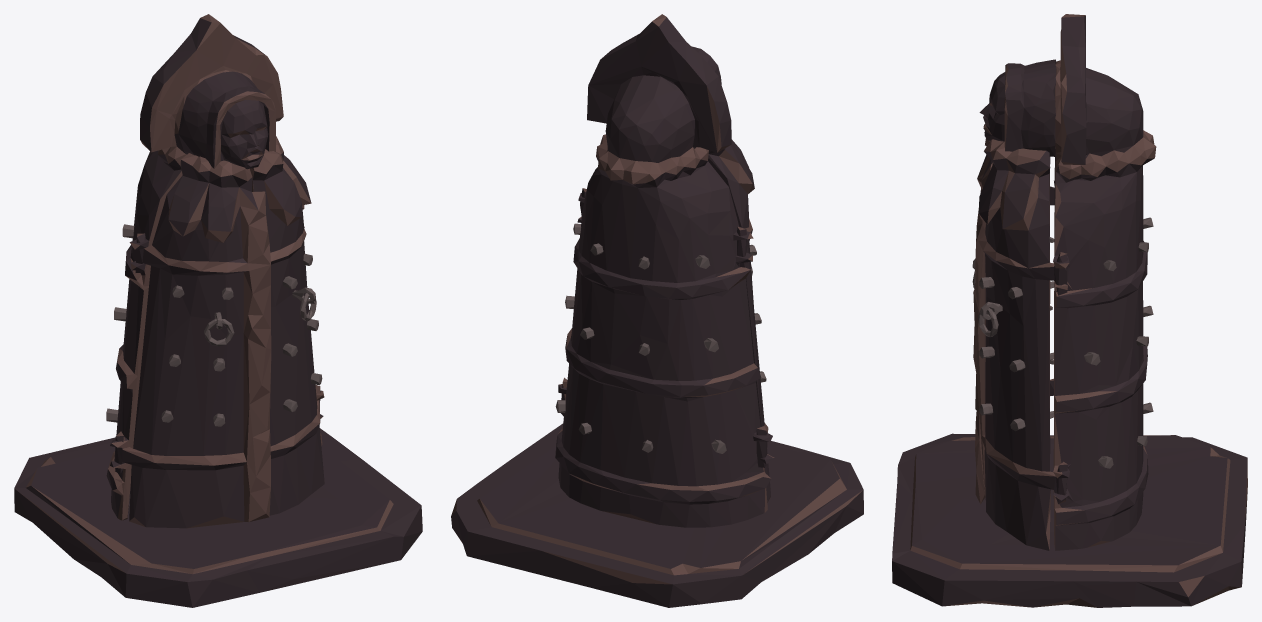
The model's file is MDungeon_IronMaiden.FBX.
3 views of the same model, side by side, from view 1: azimuth 30°, elevation 25°; view 2: azimuth 150°, elevation 25°; view 3: azimuth 270°, elevation 25° (orthographic). The views are drawn at different scales.
Parts seen in each view (by area): view 1: MDungeon_IronMaiden_Base_LOD0, MDungeon_IronMaiden_DoorL_LOD0, MDungeon_IronMaiden_DoorR_LOD0; view 2: MDungeon_IronMaiden_Base_LOD0, MDungeon_IronMaiden_DoorL_LOD0; view 3: MDungeon_IronMaiden_Base_LOD0, MDungeon_IronMaiden_DoorR_LOD0, MDungeon_IronMaiden_DoorL_LOD0.
Part boxes in pixels (x1,y1,x2,y2): MDungeon_IronMaiden_Base_LOD0: (14,14,422,607); MDungeon_IronMaiden_DoorL_LOD0: (115,153,271,528); MDungeon_IronMaiden_DoorR_LOD0: (250,136,324,515); MDungeon_IronMaiden_Base_LOD0: (451,14,863,607); MDungeon_IronMaiden_DoorL_LOD0: (708,139,770,502); MDungeon_IronMaiden_Base_LOD0: (892,14,1247,607); MDungeon_IronMaiden_DoorR_LOD0: (978,139,1067,550); MDungeon_IronMaiden_DoorL_LOD0: (972,138,1054,503).
Size of what is drawn, in the model's own units: 1.86 by 3.02 by 1.88.
